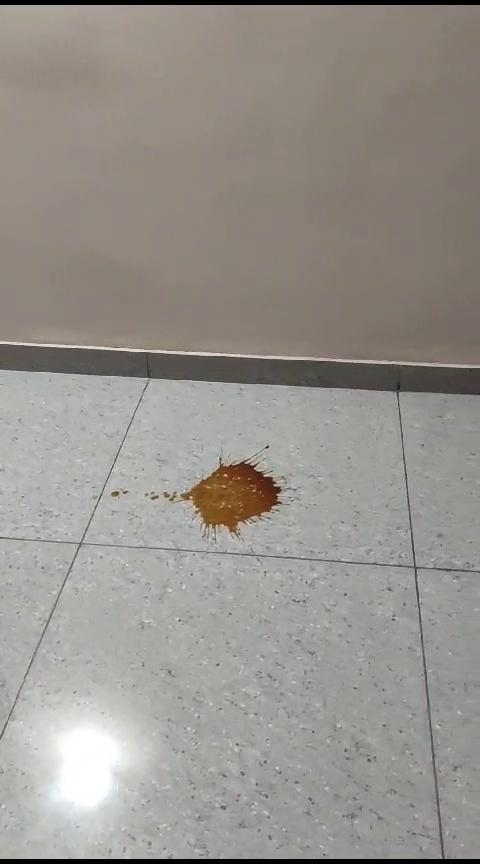dirty_floor: (156, 447, 299, 541)
